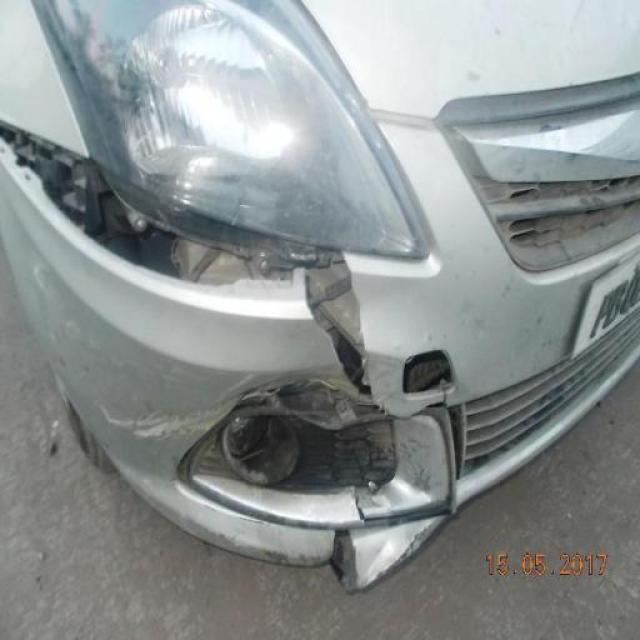scratch: (95, 384, 243, 444)
shatter: (197, 380, 402, 495)
tear: (0, 126, 374, 405), (329, 494, 368, 591)
